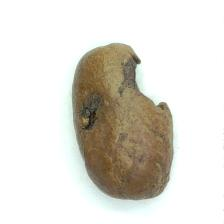NG: (116, 45, 166, 116), (73, 92, 105, 138)
